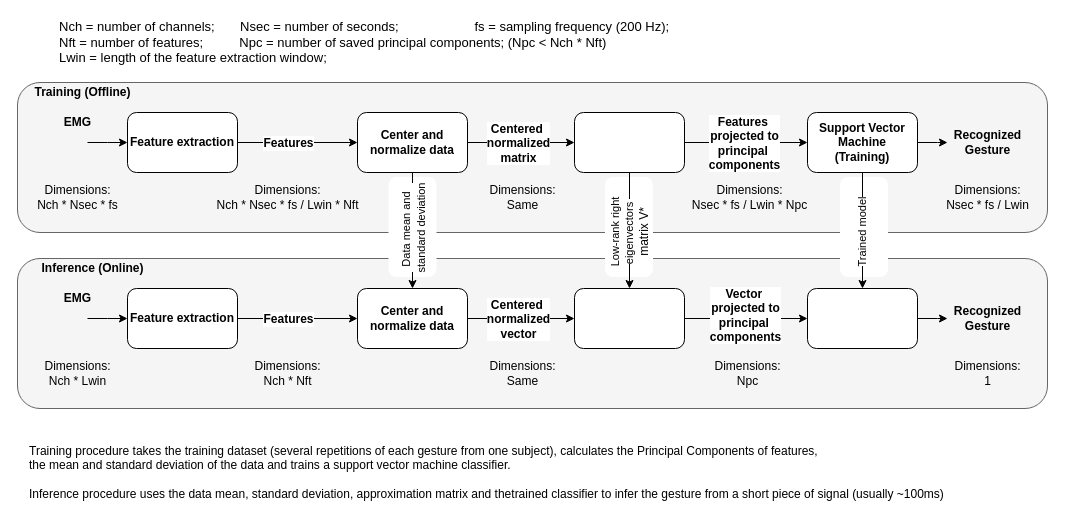
This 1065x519 diagram has some shape labels left out. Each missing label, with the centre of its shape:
"Project onto principal components" belongs at point 629,318.
"Support Vector Machine (Inference)" belongs at point 862,318.
"SVD (low-rank matrix approximation)" belongs at point 629,142.
